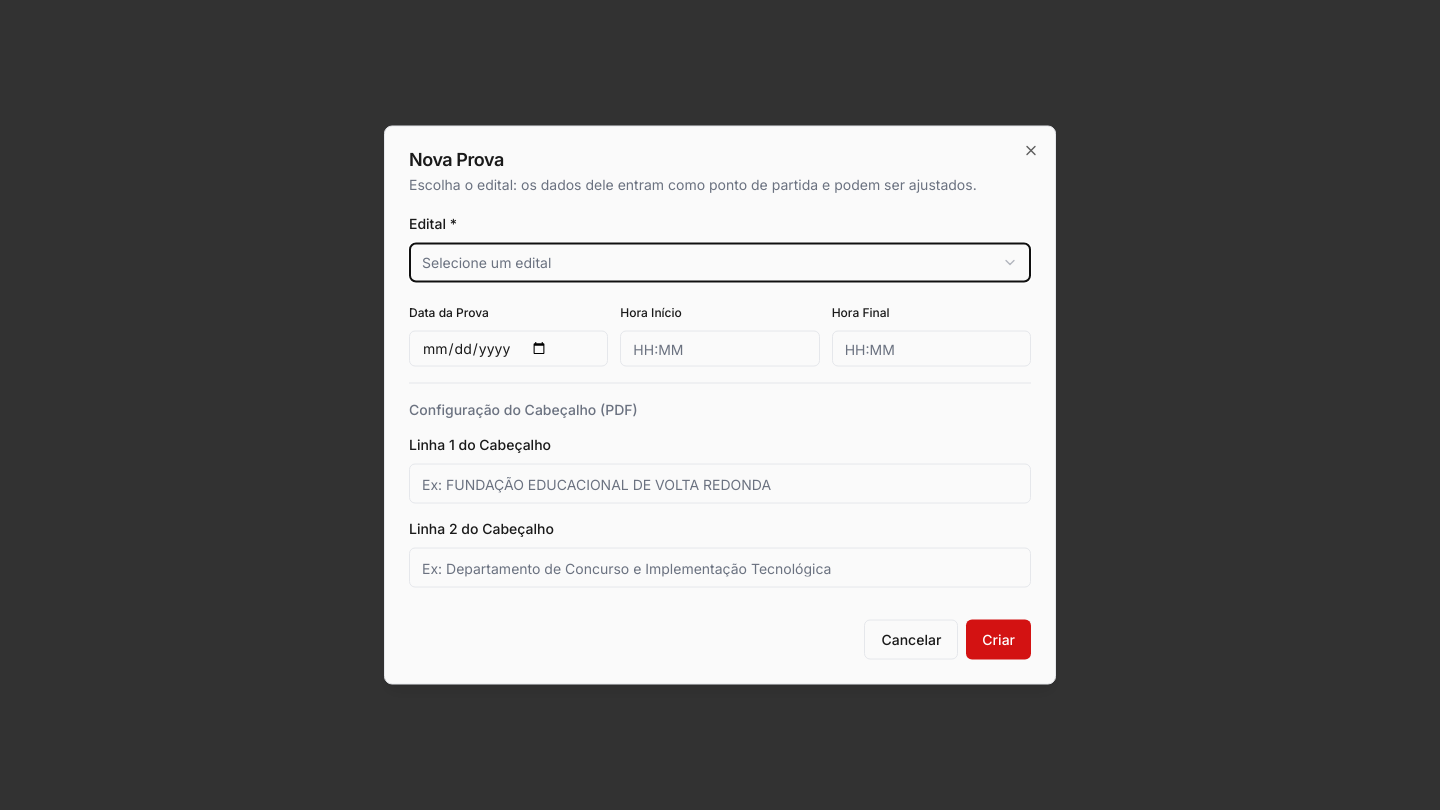
ProvaDialog (interação) › herança edital → prova (D2/D3) › preenche os cabeçalhos ao escolher um edital numa prova NOVA
Click the dropdown at (487, 262), box [409,242,1031,282]
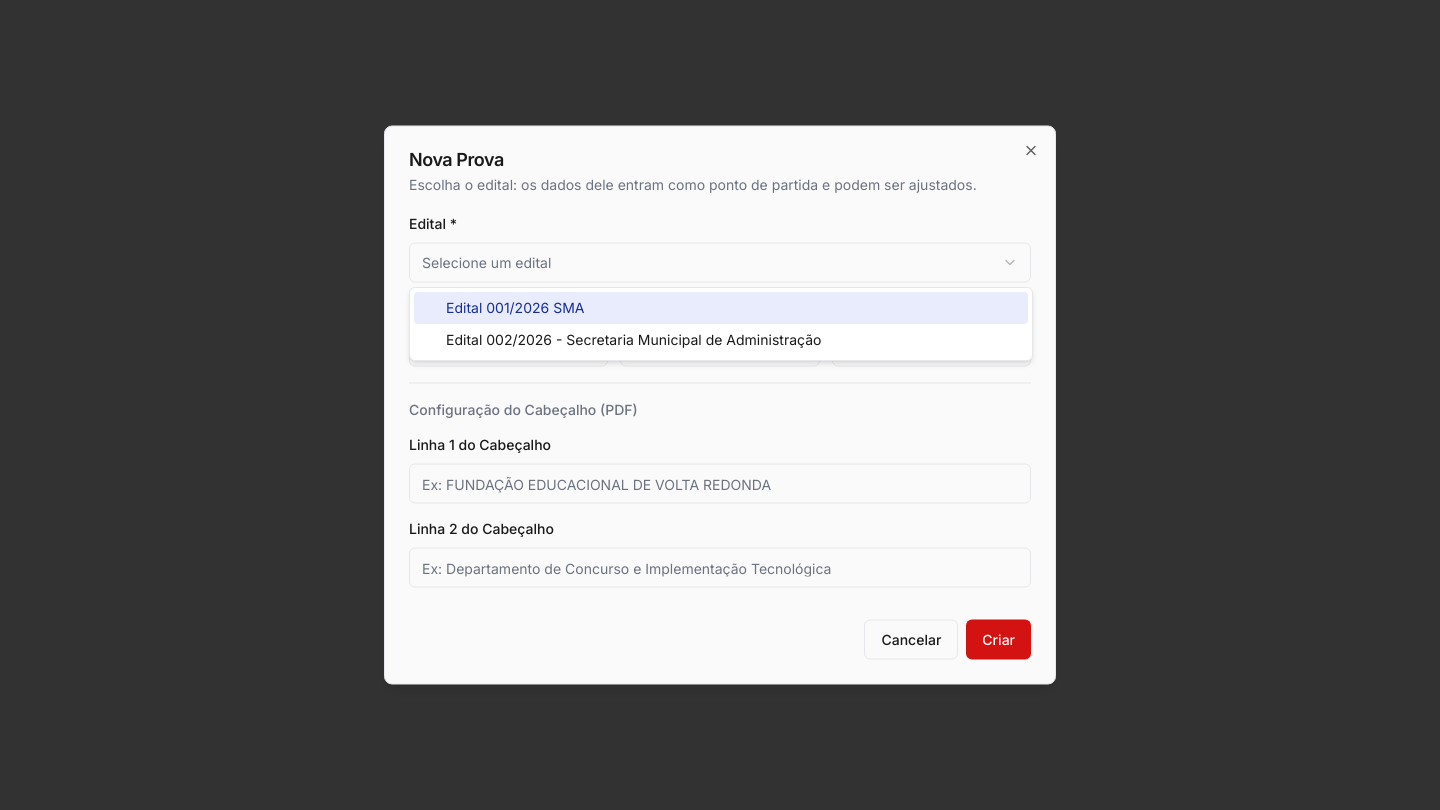
Click the option "Edital 001/2026 SMA" at (515, 308), box [414,292,1028,324]
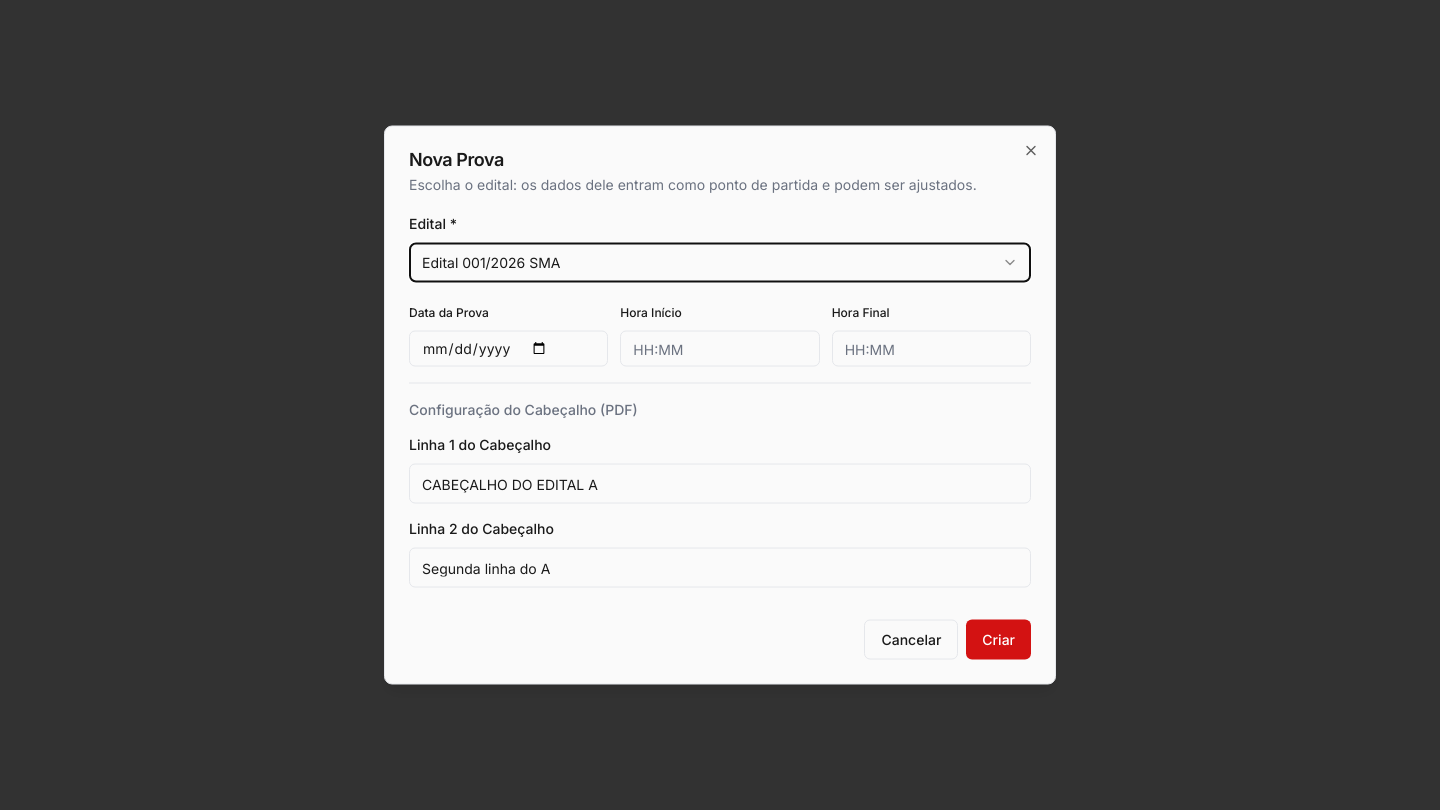
Expected: the field labelled "Linha 1 do Cabeçalho" holds "CABEÇALHO DO EDITAL A", [409,464,1031,504]
Expected: the field labelled "Linha 2 do Cabeçalho" holds "Segunda linha do A", [409,548,1031,588]
